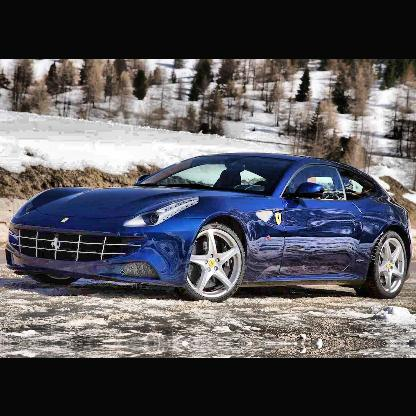Ferrari FF Coupe 2012: (4, 147, 415, 305)
